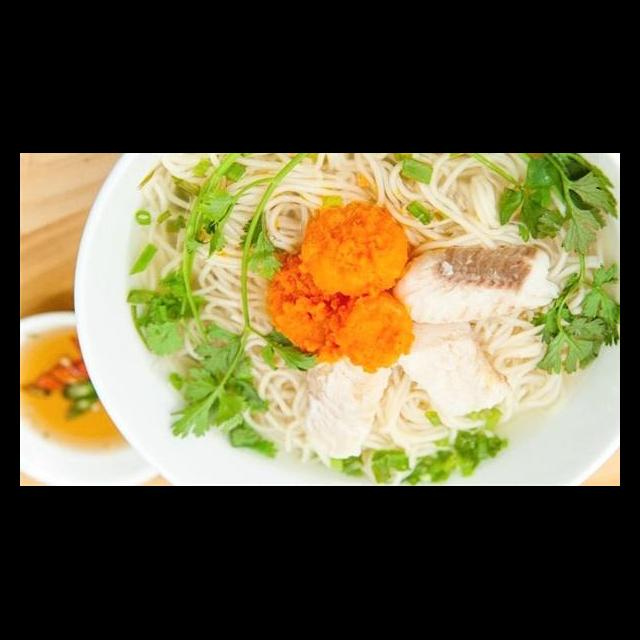bun: (119, 154, 307, 478), (123, 154, 609, 244), (473, 309, 576, 432)
bun ca: (83, 174, 620, 478)
ca: (386, 240, 566, 332), (385, 308, 517, 428), (297, 330, 399, 468)
tom: (293, 198, 416, 300), (261, 246, 363, 366), (323, 286, 418, 376)
